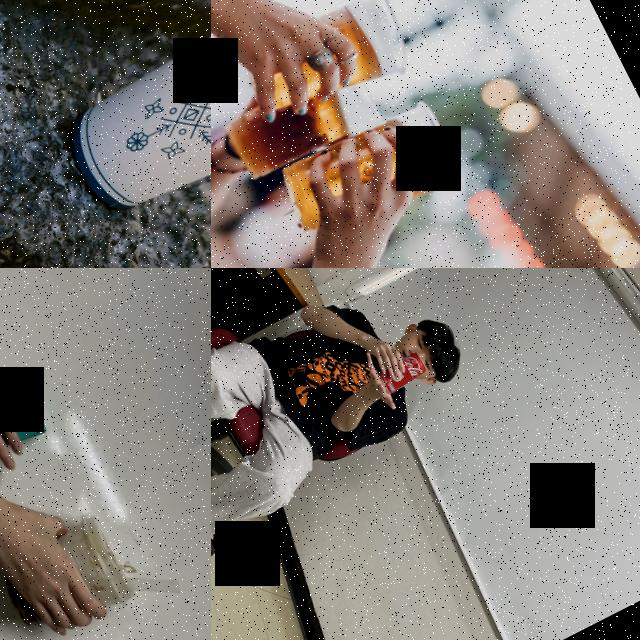can: (376, 350, 429, 396)
cup: (44, 0, 211, 247), (273, 96, 469, 262), (232, 0, 418, 139), (0, 509, 138, 640)
